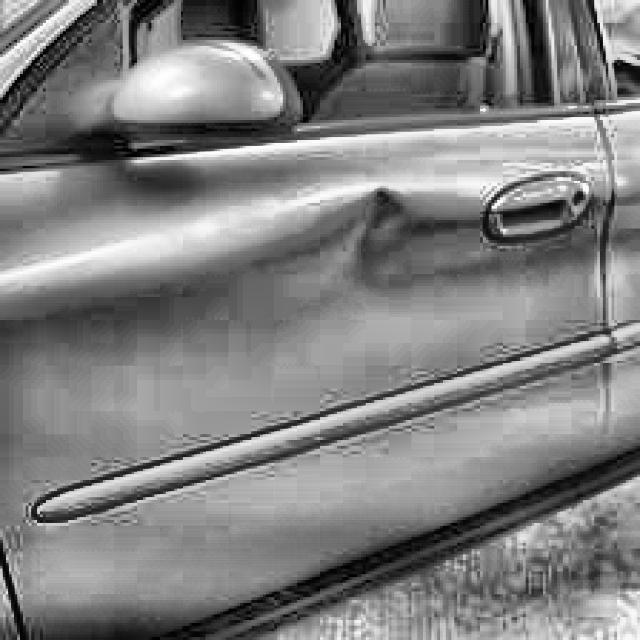door_dent: (325, 182, 421, 279)
